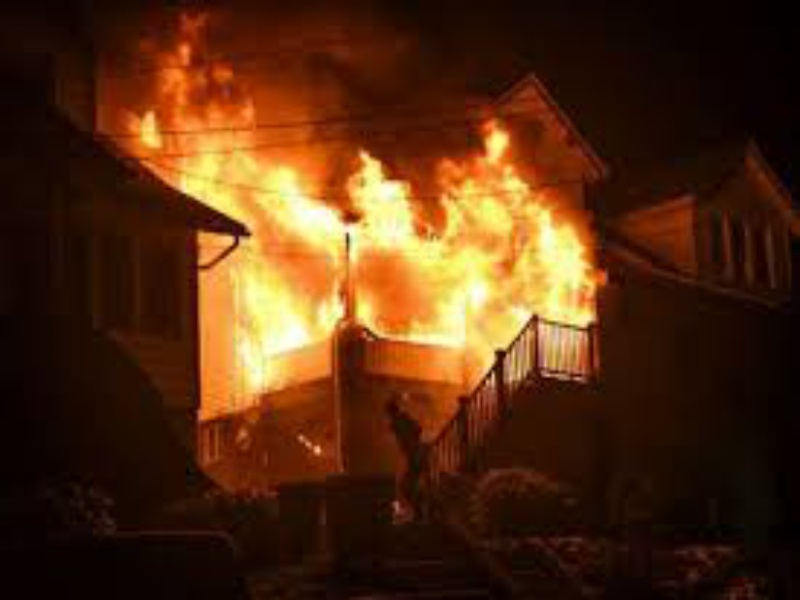fire: (274, 158, 606, 350), (209, 242, 276, 397), (159, 120, 264, 198)
